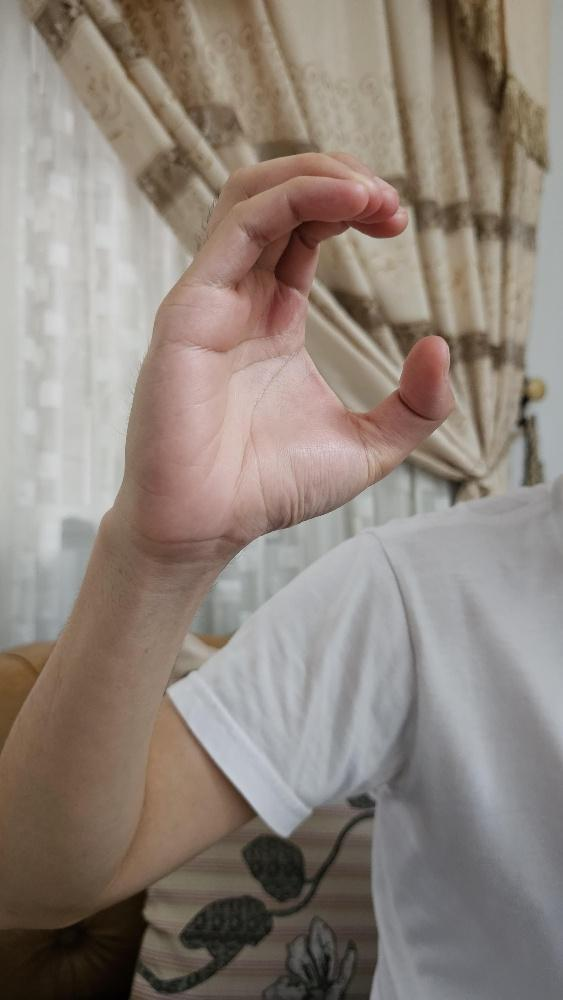c: (124, 145, 460, 548)
